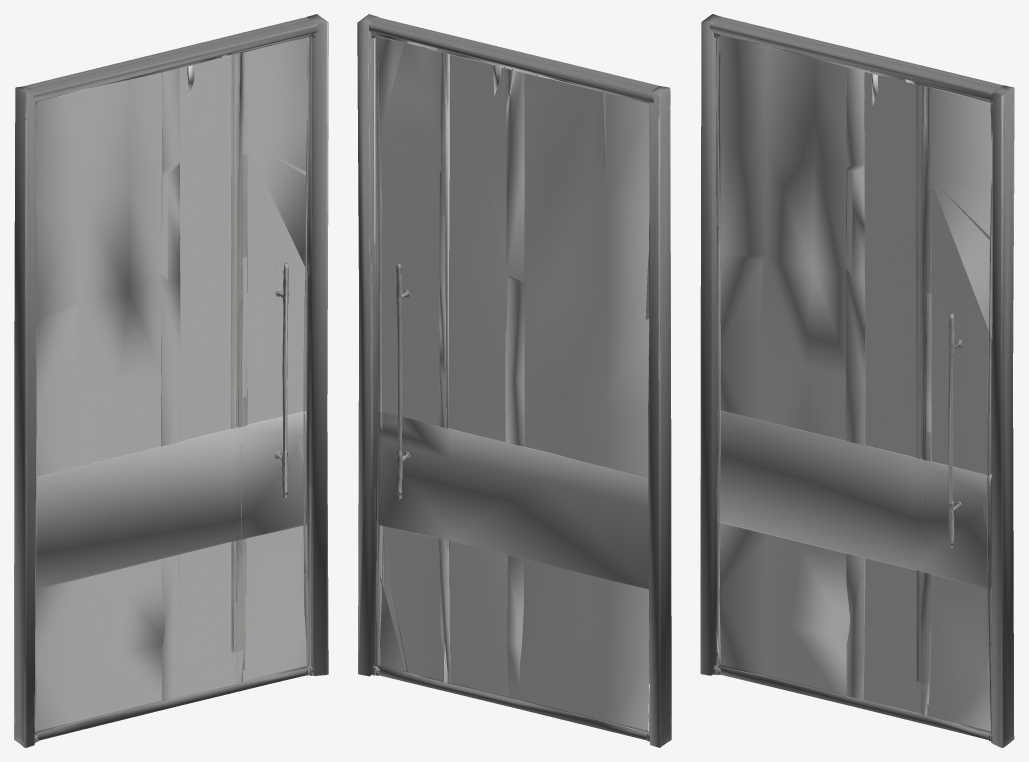
File: Meshy_AI_glass_executive_door_0904015541_texture.glb
The picture shows the model from 3 angles, left to right: view 1: azimuth 30°, elevation 25°; view 2: azimuth 150°, elevation 25°; view 3: azimuth 330°, elevation 25°; orthographic projection.
Parts seen in each view (by area): view 1: mesh_node; view 2: mesh_node; view 3: mesh_node.
Part boxes in pixels (x1,y1,x2,y2): mesh_node: (14, 14, 328, 747); mesh_node: (357, 14, 671, 747); mesh_node: (700, 14, 1014, 747).
Bounding box in the file's own units: 0.4873 × 1 × 0.0676.
Materials: 1 (1 with a texture image).
